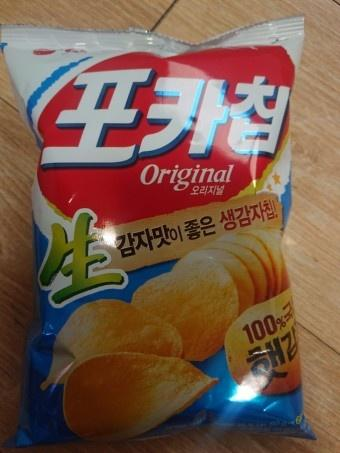snack: (0, 14, 319, 451)
